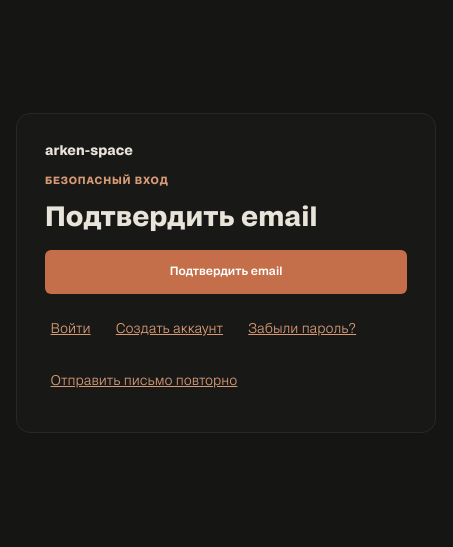
Test: AccountAuthWorkspace › consumes an emailed verification token, clears the URL, then permits login
Click the button "Подтвердить email" at (226, 272), box 45,250 -> 407,294
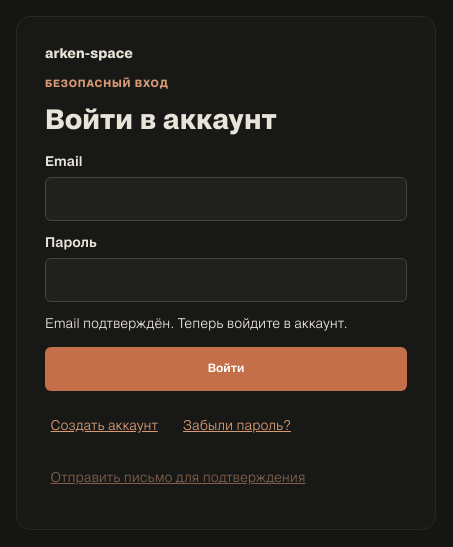
Now the heading "Войти в аккаунт" is shown, box 45,109 -> 277,134
